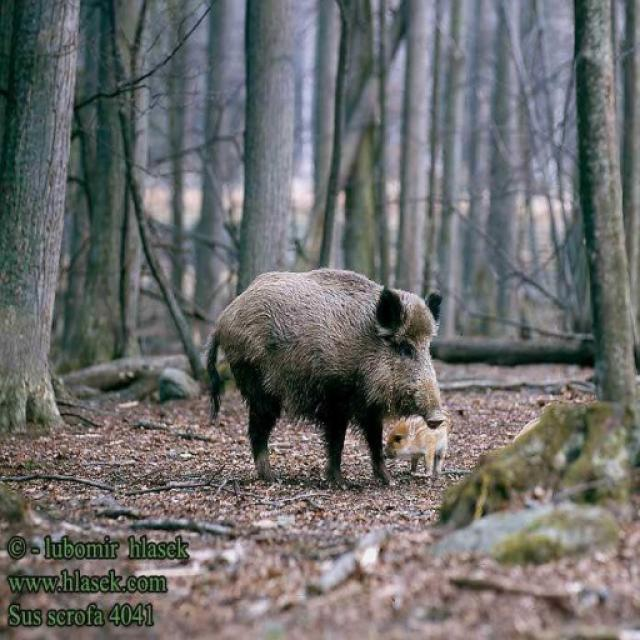pig: (195, 222, 499, 424)
